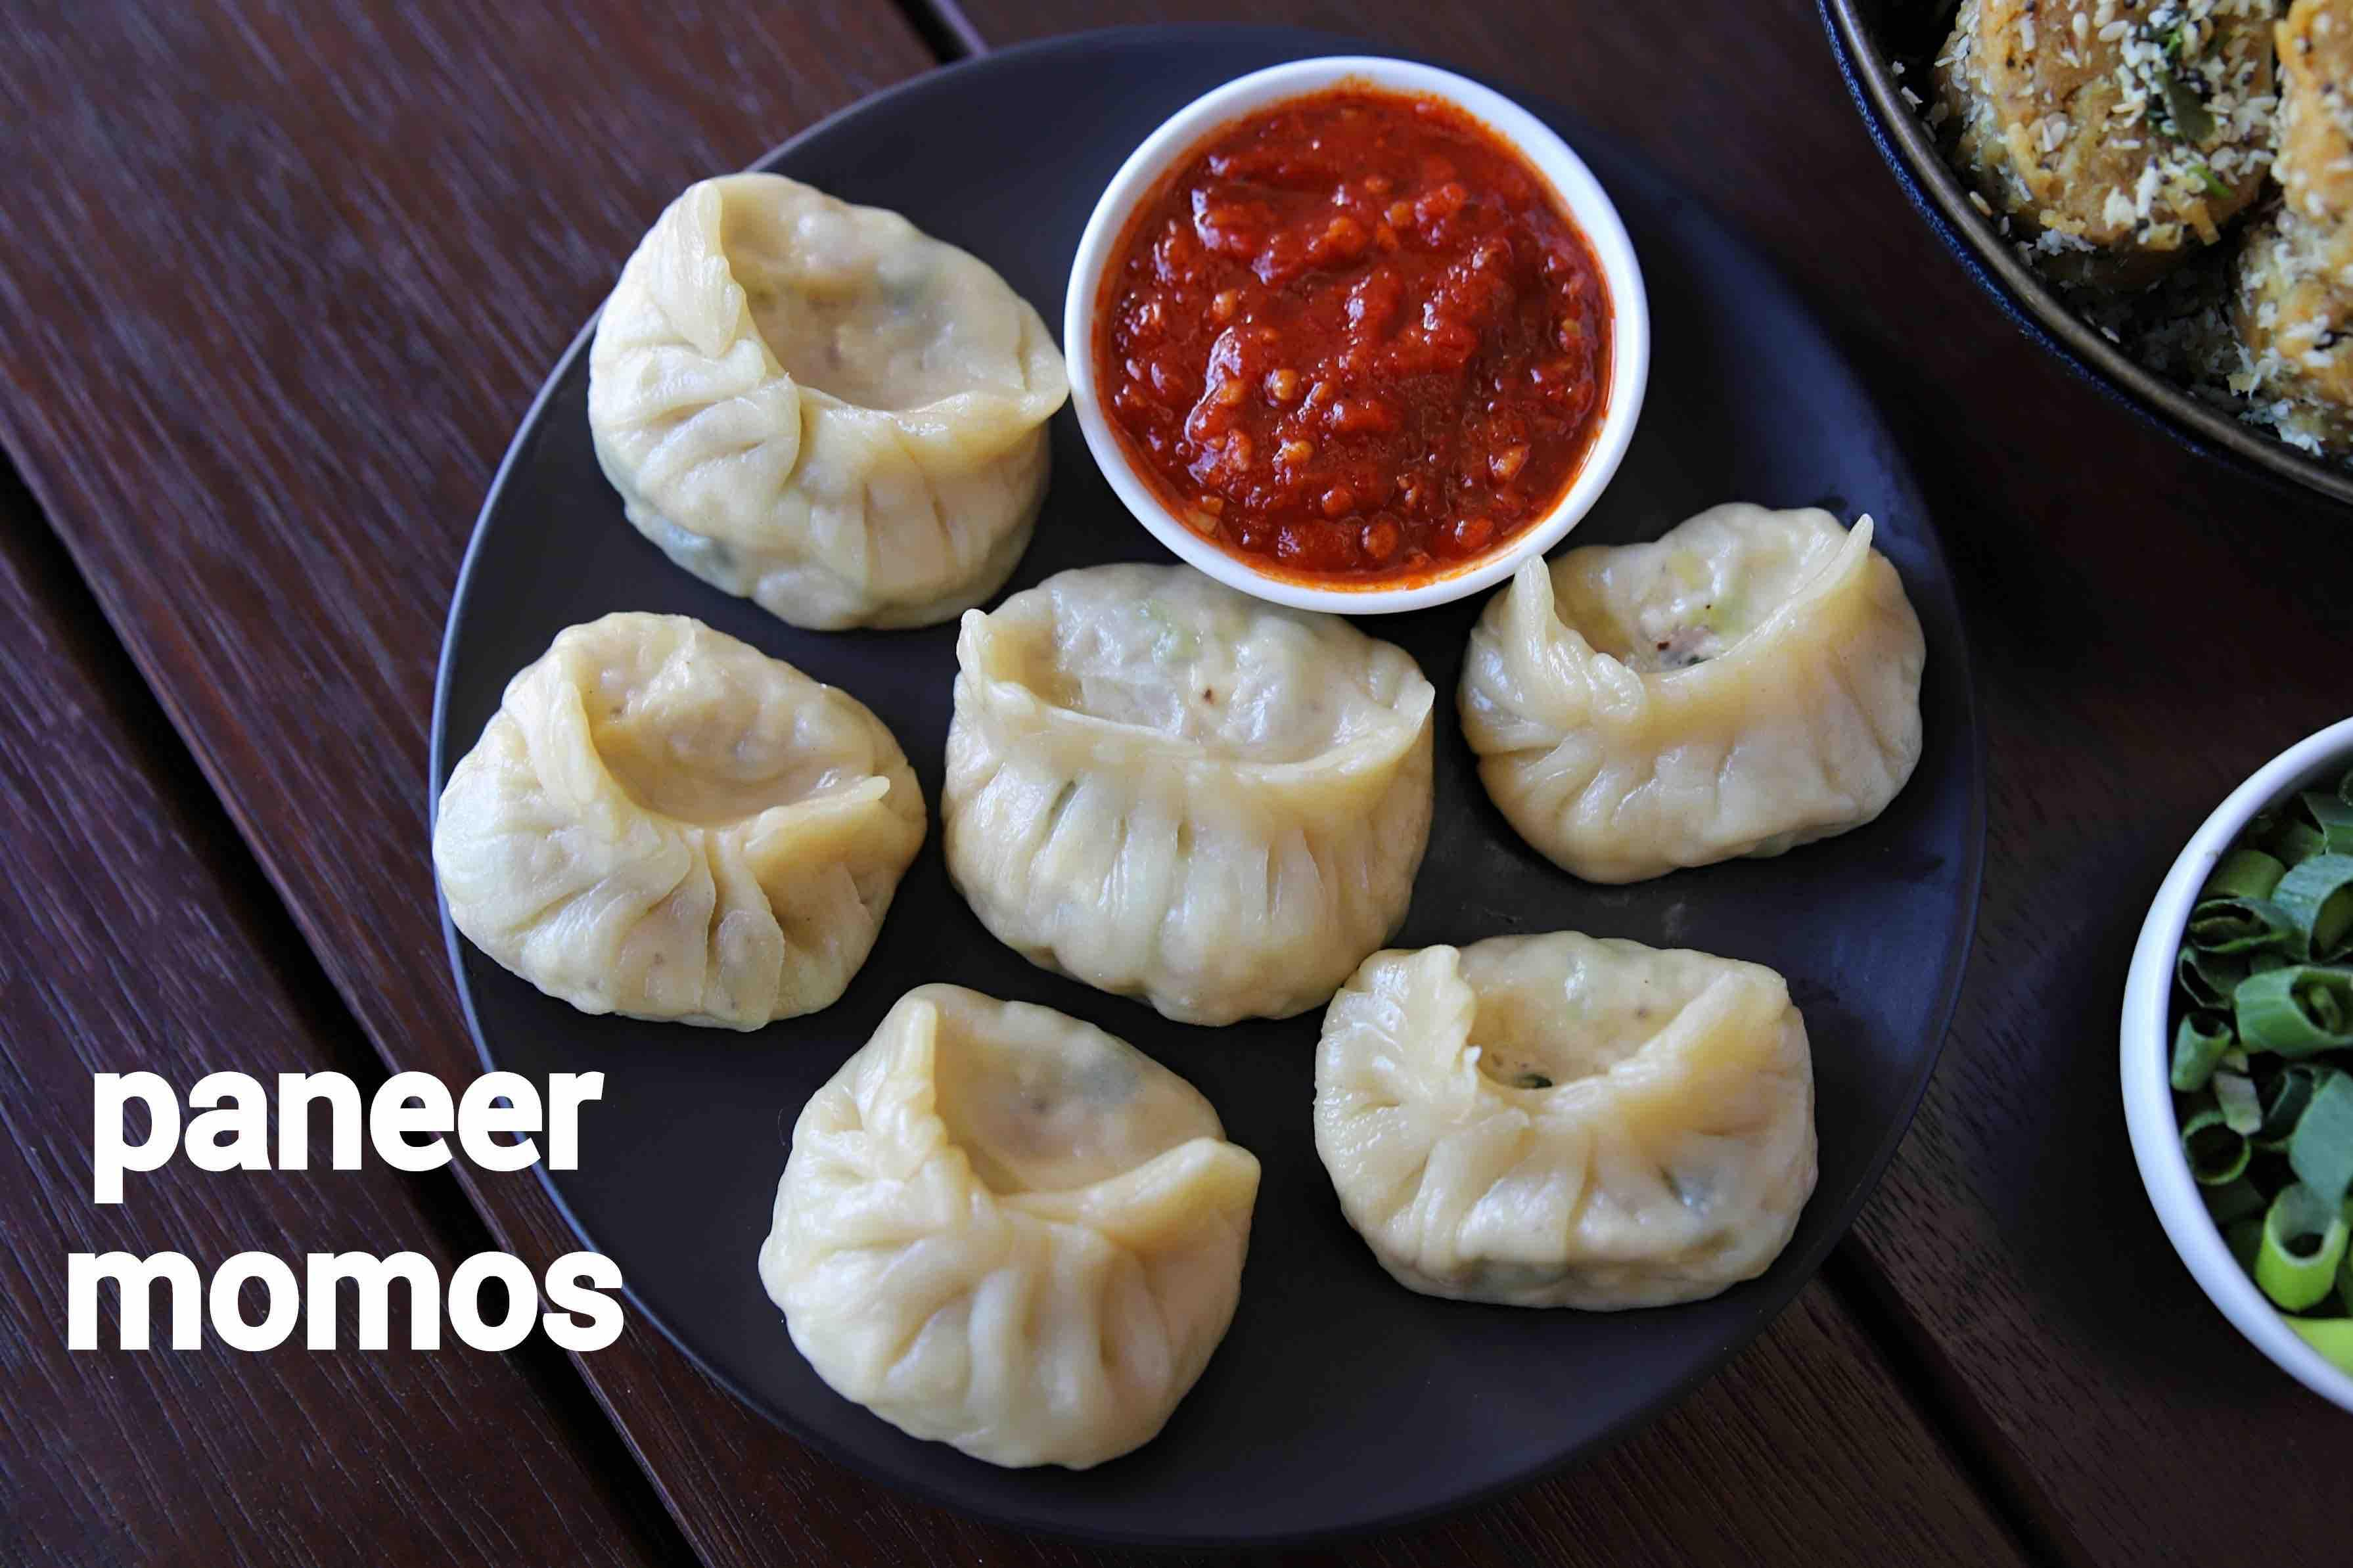momos: (758, 983, 1259, 1470), (942, 565, 1434, 1024), (588, 175, 1066, 630), (432, 611, 924, 1034), (1315, 933, 1816, 1309), (1457, 506, 1926, 882), (653, 350, 667, 362), (804, 317, 809, 322)
